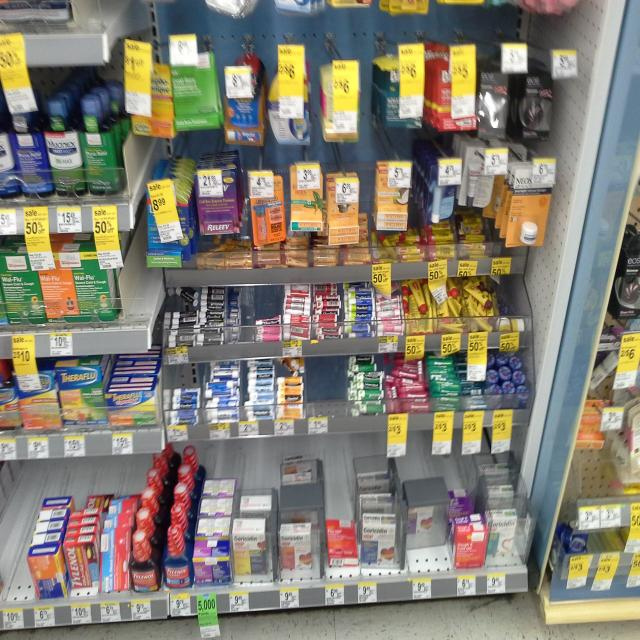empty: (1, 509, 42, 597), (115, 235, 154, 311), (302, 356, 344, 417)
